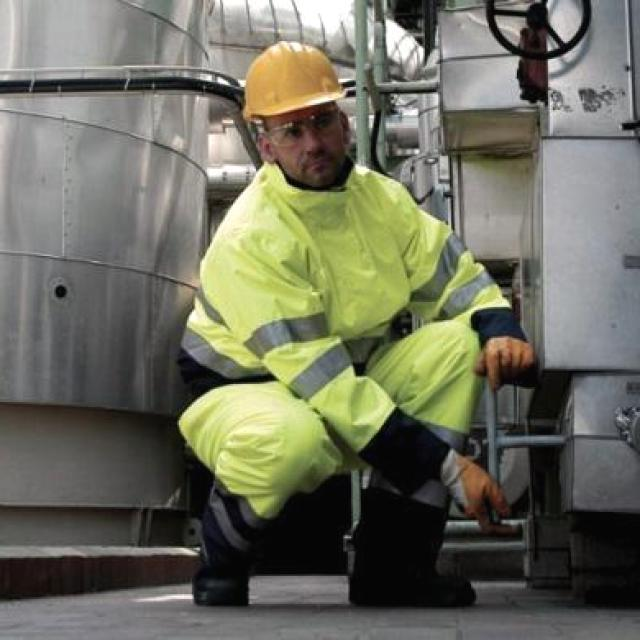face_nomask: (262, 113, 354, 187)
glasses: (266, 101, 346, 148)
hand_glove: (440, 450, 512, 533), (469, 314, 534, 391)
head_helmet: (239, 39, 348, 120)
person: (171, 64, 538, 607)
